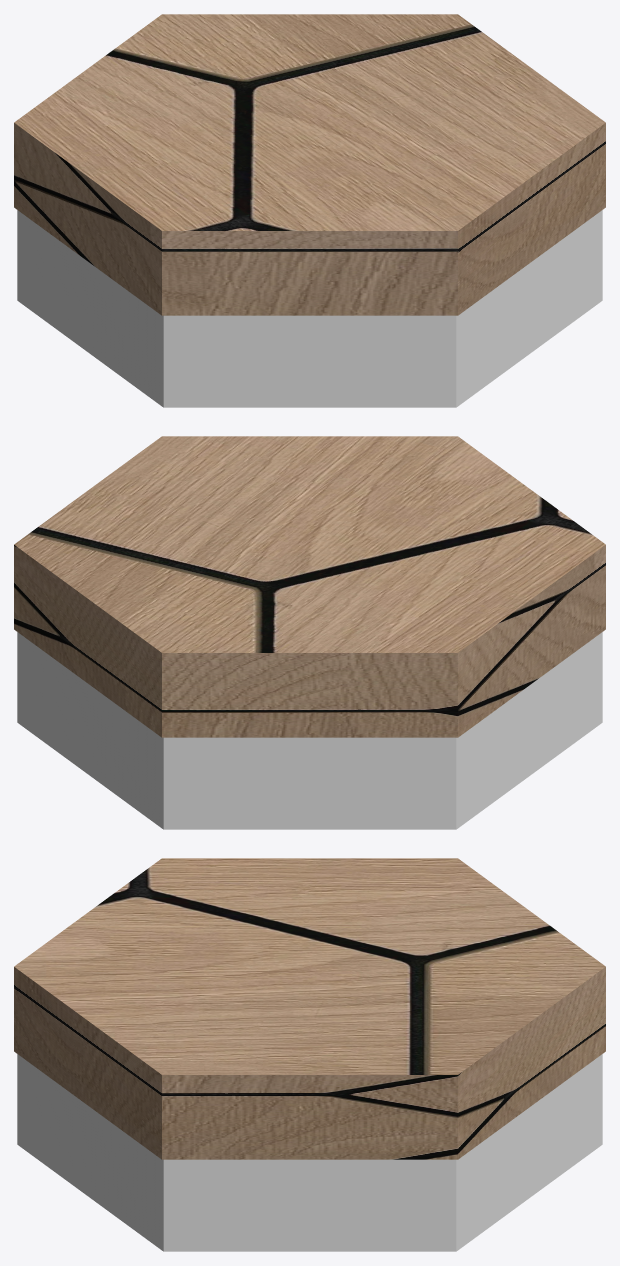
3 renders of one model, top to bottom at view 1: azimuth 30°, elevation 25°; view 2: azimuth 150°, elevation 25°; view 3: azimuth 270°, elevation 25°, orthographic.
Visible parts, largest first — view 1: Cylinder.001, Cylinder; view 2: Cylinder.001, Cylinder; view 3: Cylinder.001, Cylinder.
Part boxes in pixels (left/top/right/bottom): Cylinder.001: left=14, top=14, right=605, bottom=315; Cylinder: left=17, top=210, right=602, bottom=407; Cylinder.001: left=14, top=436, right=605, bottom=737; Cylinder: left=17, top=632, right=602, bottom=829; Cylinder.001: left=14, top=858, right=605, bottom=1159; Cylinder: left=17, top=1054, right=602, bottom=1251.
Bounding box in the file's own units: 2.79 × 1.07 × 3.22.
2 materials, 1 textured.
